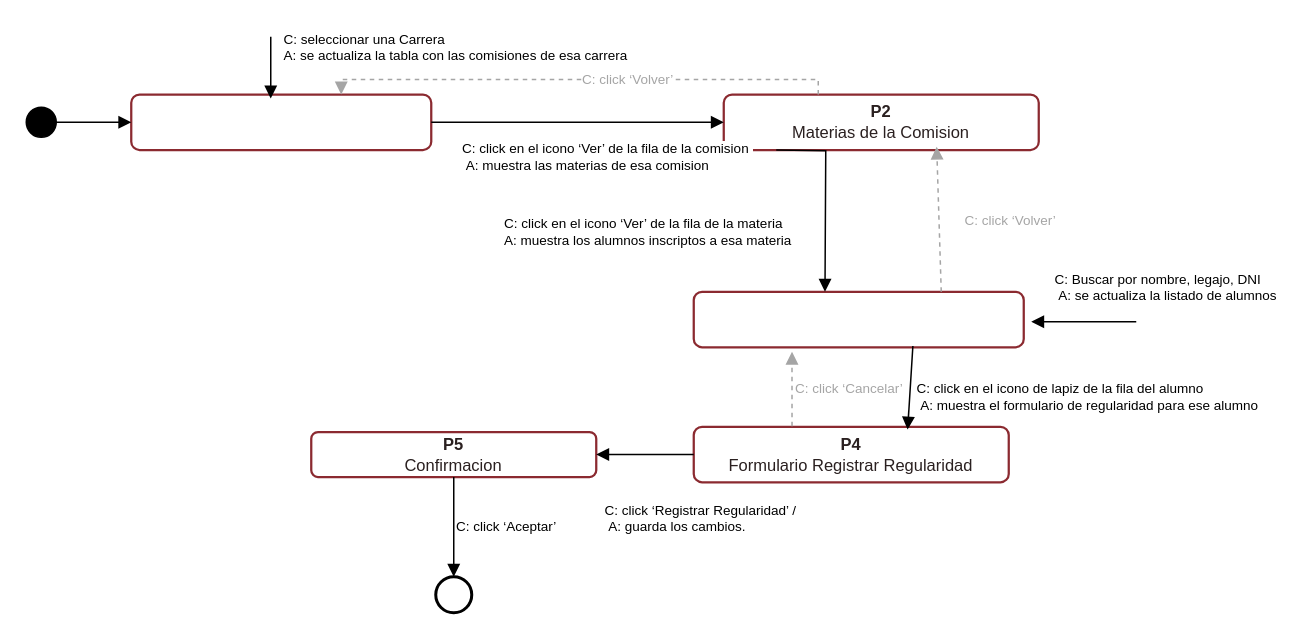
This 1304x641 diagram has some shape labels left out. Each missing label, with the box of its shape:
P1 Gestion de Comisiones: (129, 93, 432, 150)
P3 Alumnos Inscriptos a la Materia: (692, 290, 1024, 348)
